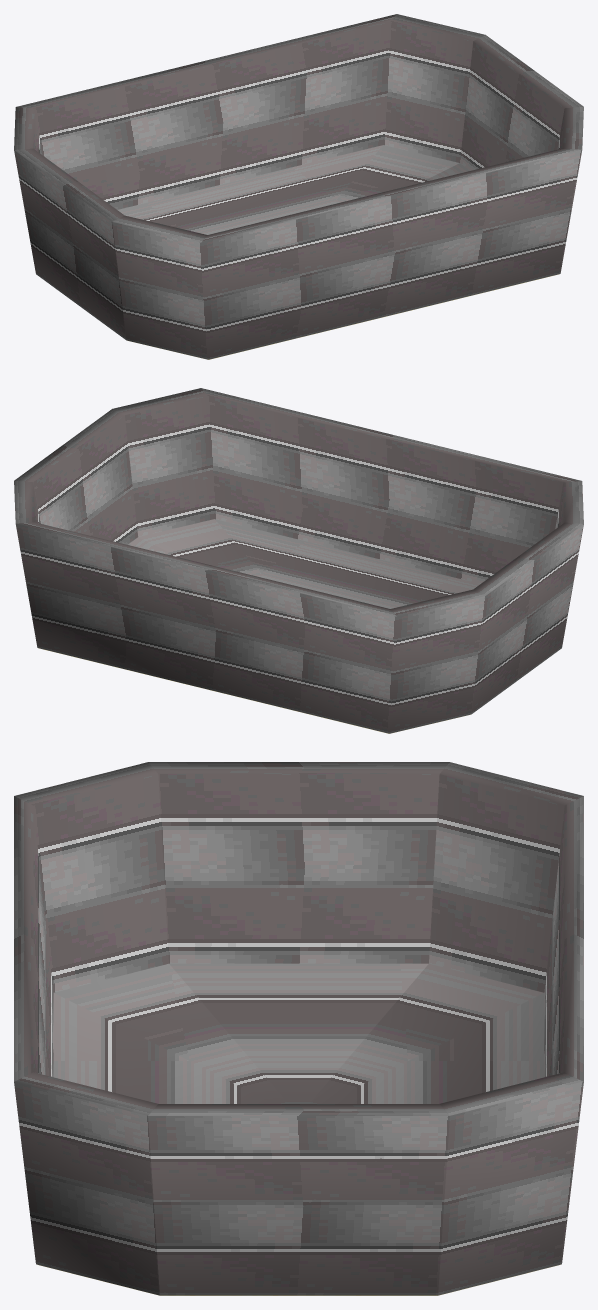
Rendered from 2763item2763e.gltf.
3 views of the same model, one above another, from view 1: azimuth 30°, elevation 25°; view 2: azimuth 150°, elevation 25°; view 3: azimuth 270°, elevation 25° (orthographic). The views are drawn at different scales.
Parts seen in each view (by area): view 1: 2763item2763e; view 2: 2763item2763e; view 3: 2763item2763e.
Part boxes in pixels (left/top/right/bottom): 2763item2763e: left=14, top=14, right=583, bottom=359; 2763item2763e: left=14, top=388, right=583, bottom=733; 2763item2763e: left=14, top=762, right=583, bottom=1295.
Size of the model in its own units: 0.8447 by 0.2161 by 0.5752.
Materials: 2 (2 with a texture image).
